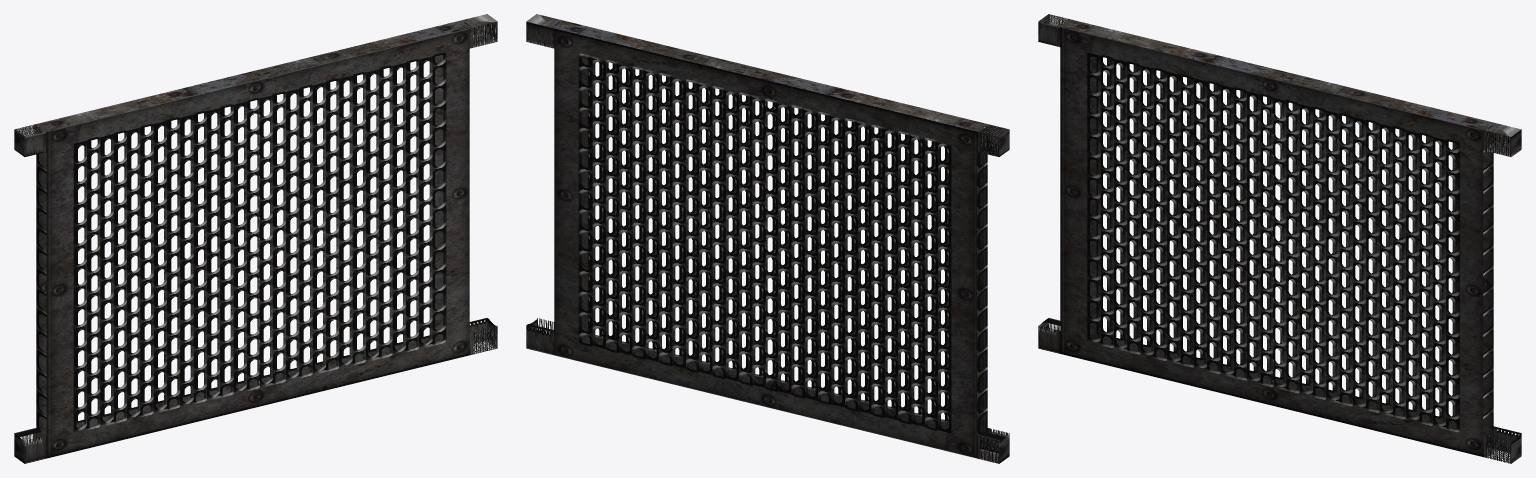
The model's file is fence3.FBX.
3 views of the same model, side by side, from view 1: azimuth 30°, elevation 25°; view 2: azimuth 150°, elevation 25°; view 3: azimuth 330°, elevation 25° (orthographic).
Parts seen in each view (by area): view 1: fance01; view 2: fance01; view 3: fance01.
Part boxes in pixels (left/top/right/bottom): fance01: left=14, top=14, right=497, bottom=463; fance01: left=526, top=14, right=1009, bottom=463; fance01: left=1038, top=14, right=1521, bottom=463.
Size of the model in its own units: 80.72 by 53.34 by 3.06.
